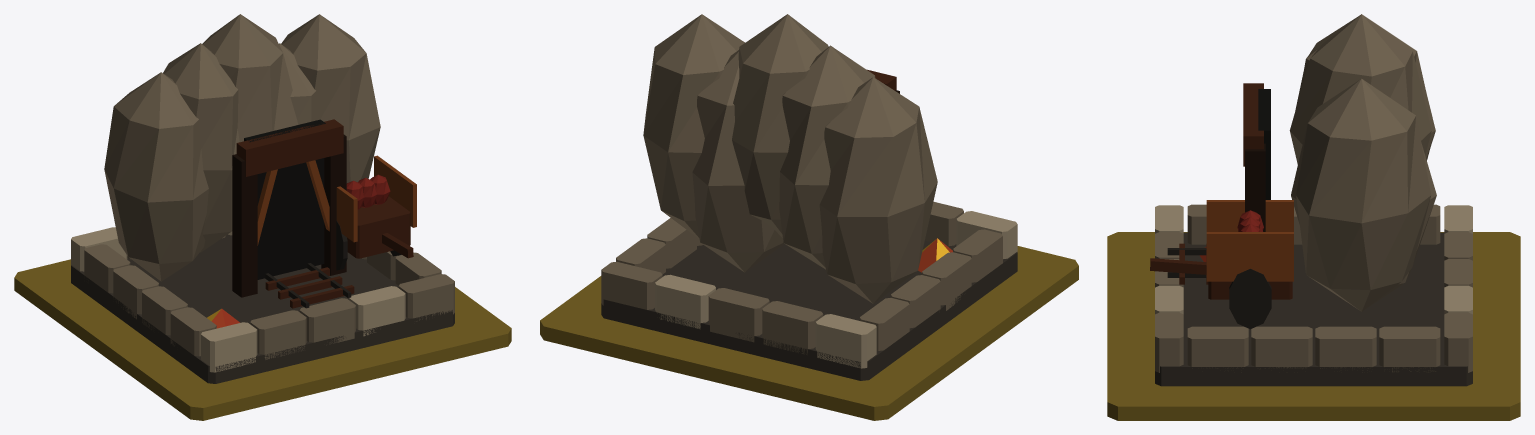
Rendered from emberglass_t1.glb.
The picture shows the model from 3 angles, left to right: view 1: azimuth 30°, elevation 25°; view 2: azimuth 150°, elevation 25°; view 3: azimuth 270°, elevation 25°; orthographic projection. The views are drawn at different scales.
Visible parts, largest first — view 1: MMR | emberglass | T01 Architecture.001, MMR | emberglass | Tier 01 Ground.001; view 2: MMR | emberglass | T01 Architecture.001, MMR | emberglass | Tier 01 Ground.001, MMR | emberglass | T01 Autumn Dressing.001; view 3: MMR | emberglass | T01 Architecture.001, MMR | emberglass | Tier 01 Ground.001.
Boxes of the visible parts, x1,y1,x2,y2 form: MMR | emberglass | T01 Architecture.001: (71, 14, 454, 383); MMR | emberglass | Tier 01 Ground.001: (14, 259, 511, 420); MMR | emberglass | T01 Architecture.001: (601, 14, 1017, 380); MMR | emberglass | Tier 01 Ground.001: (540, 246, 1078, 420); MMR | emberglass | T01 Autumn Dressing.001: (918, 238, 952, 272); MMR | emberglass | T01 Architecture.001: (1150, 14, 1472, 386); MMR | emberglass | Tier 01 Ground.001: (1107, 232, 1520, 420).
Bounding box in the file's own units: 1.3 × 1.11 × 1.3.
1 material, 1 textured.
